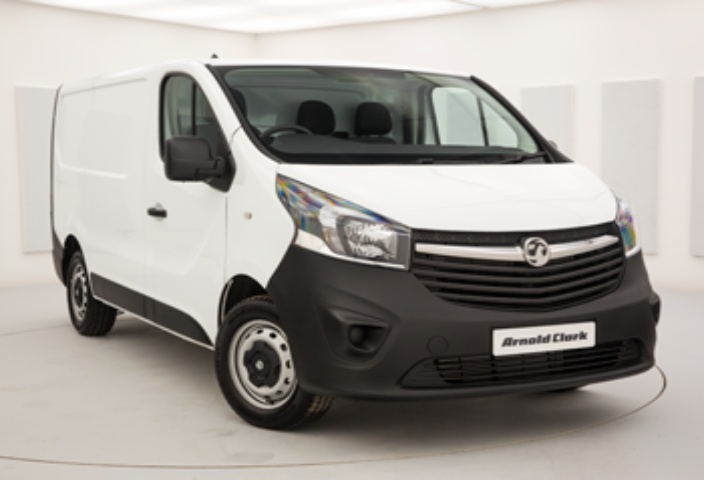van: (19, 38, 665, 433)
